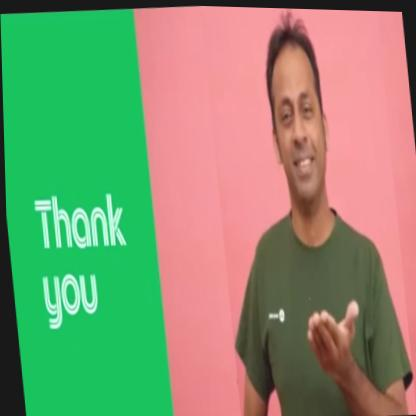ThankYou: (201, 5, 415, 416)
